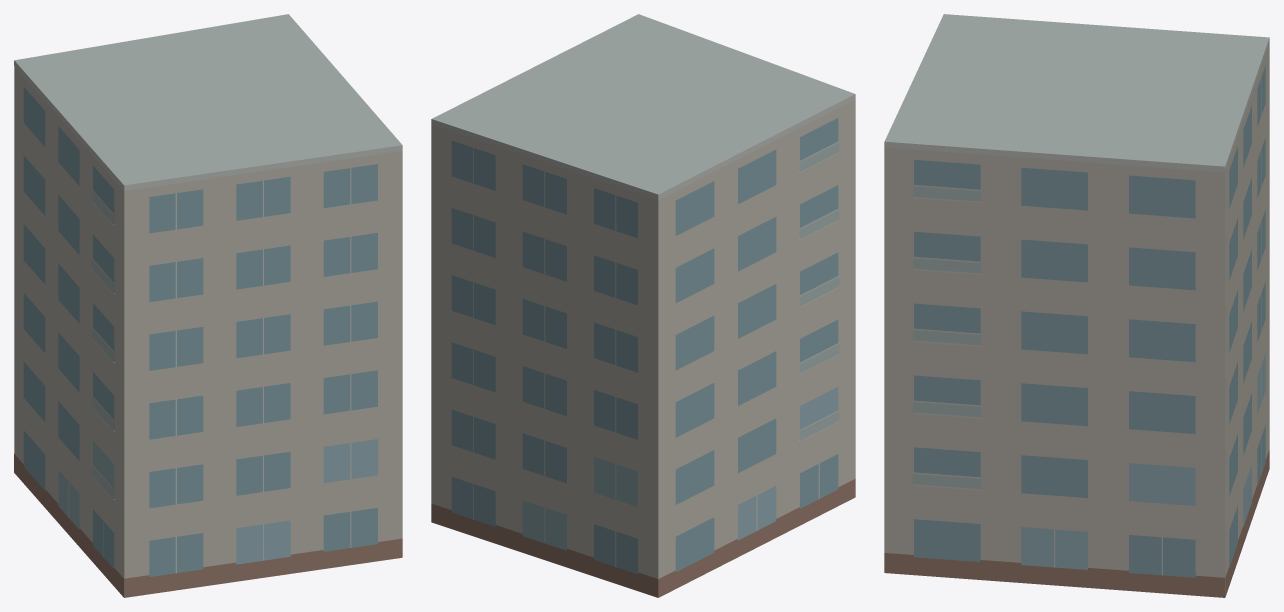
File: survey-upis-32731856.glb
3 renders of one model, left to right at view 1: azimuth 30°, elevation 25°; view 2: azimuth 150°, elevation 25°; view 3: azimuth 270°, elevation 25°, orthographic. The views are drawn at different scales.
Visible parts, largest first — view 1: survey-upis-32731856.tmp; view 2: survey-upis-32731856.tmp; view 3: survey-upis-32731856.tmp.
Part boxes in pixels (left/top/right/bottom): survey-upis-32731856.tmp: left=14, top=14, right=402, bottom=597; survey-upis-32731856.tmp: left=431, top=14, right=855, bottom=597; survey-upis-32731856.tmp: left=884, top=14, right=1269, bottom=597.
Bounding box in the file's own units: 13.67 × 18 × 14.58.
